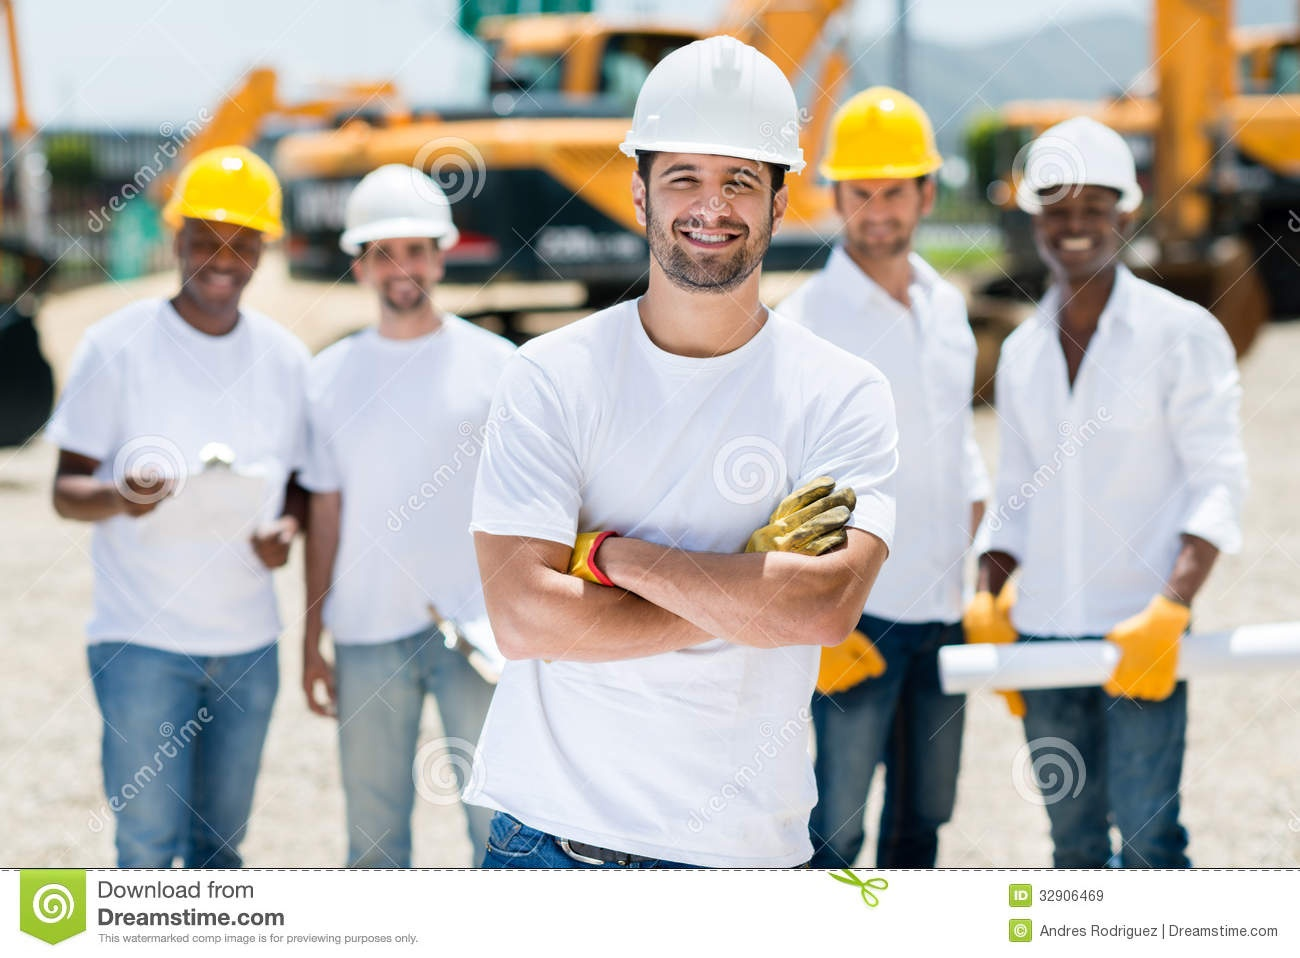white: (631, 37, 798, 292), (1024, 122, 1136, 275), (345, 163, 454, 314)
yellow: (824, 86, 934, 257), (166, 148, 278, 305)
